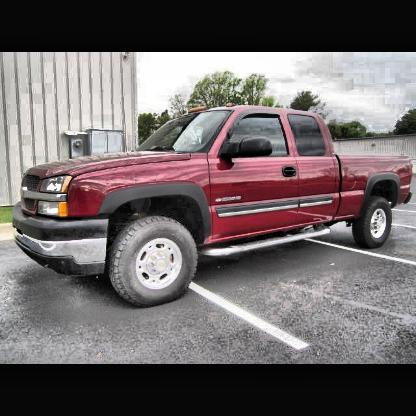Chevrolet Silverado 1500 Classic Extended Cab 2007: (10, 102, 416, 311)
